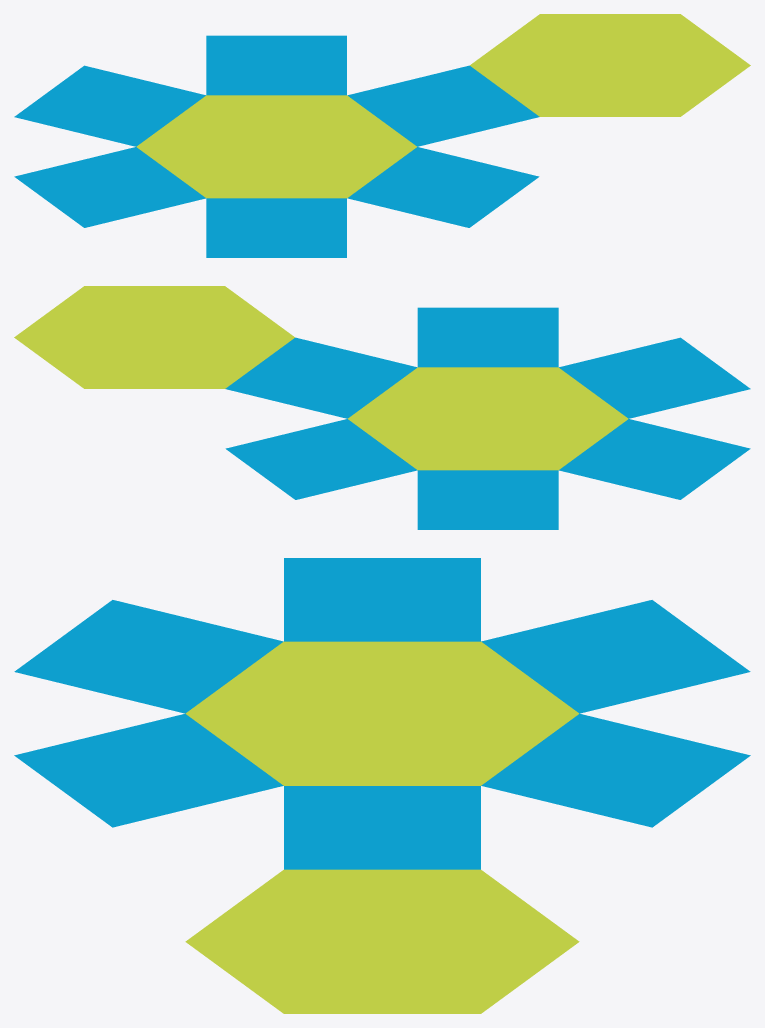
The model's file is circle-hexagonal-prism.fbx.
3 views of the same model, one above another, from view 1: azimuth 30°, elevation 25°; view 2: azimuth 150°, elevation 25°; view 3: azimuth 270°, elevation 25° (orthographic). The views are drawn at different scales.
Visible parts, largest first — view 1: Circle.002; view 2: Circle.002; view 3: Circle.002.
Part boxes in pixels (x1,y1,x2,y2): Circle.002: (14, 14, 750, 257); Circle.002: (14, 286, 750, 529); Circle.002: (14, 558, 750, 1013).
Size of the model in its own units: 547 by 0 by 374.
